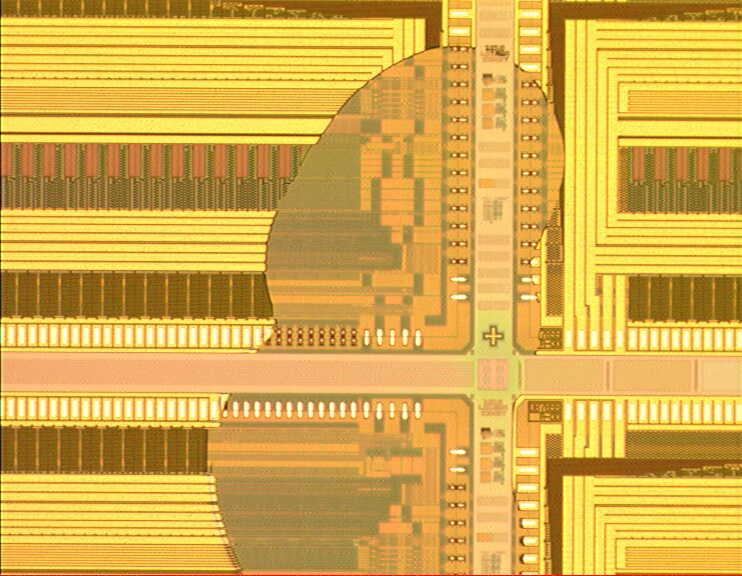BLOCK ETCH: (211, 44, 568, 576)
